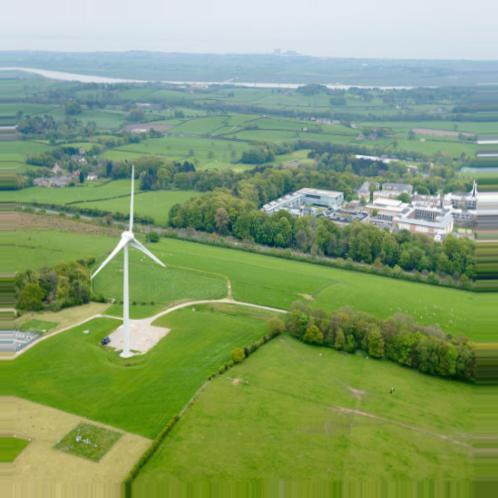wind turbine: (89, 165, 167, 357)
